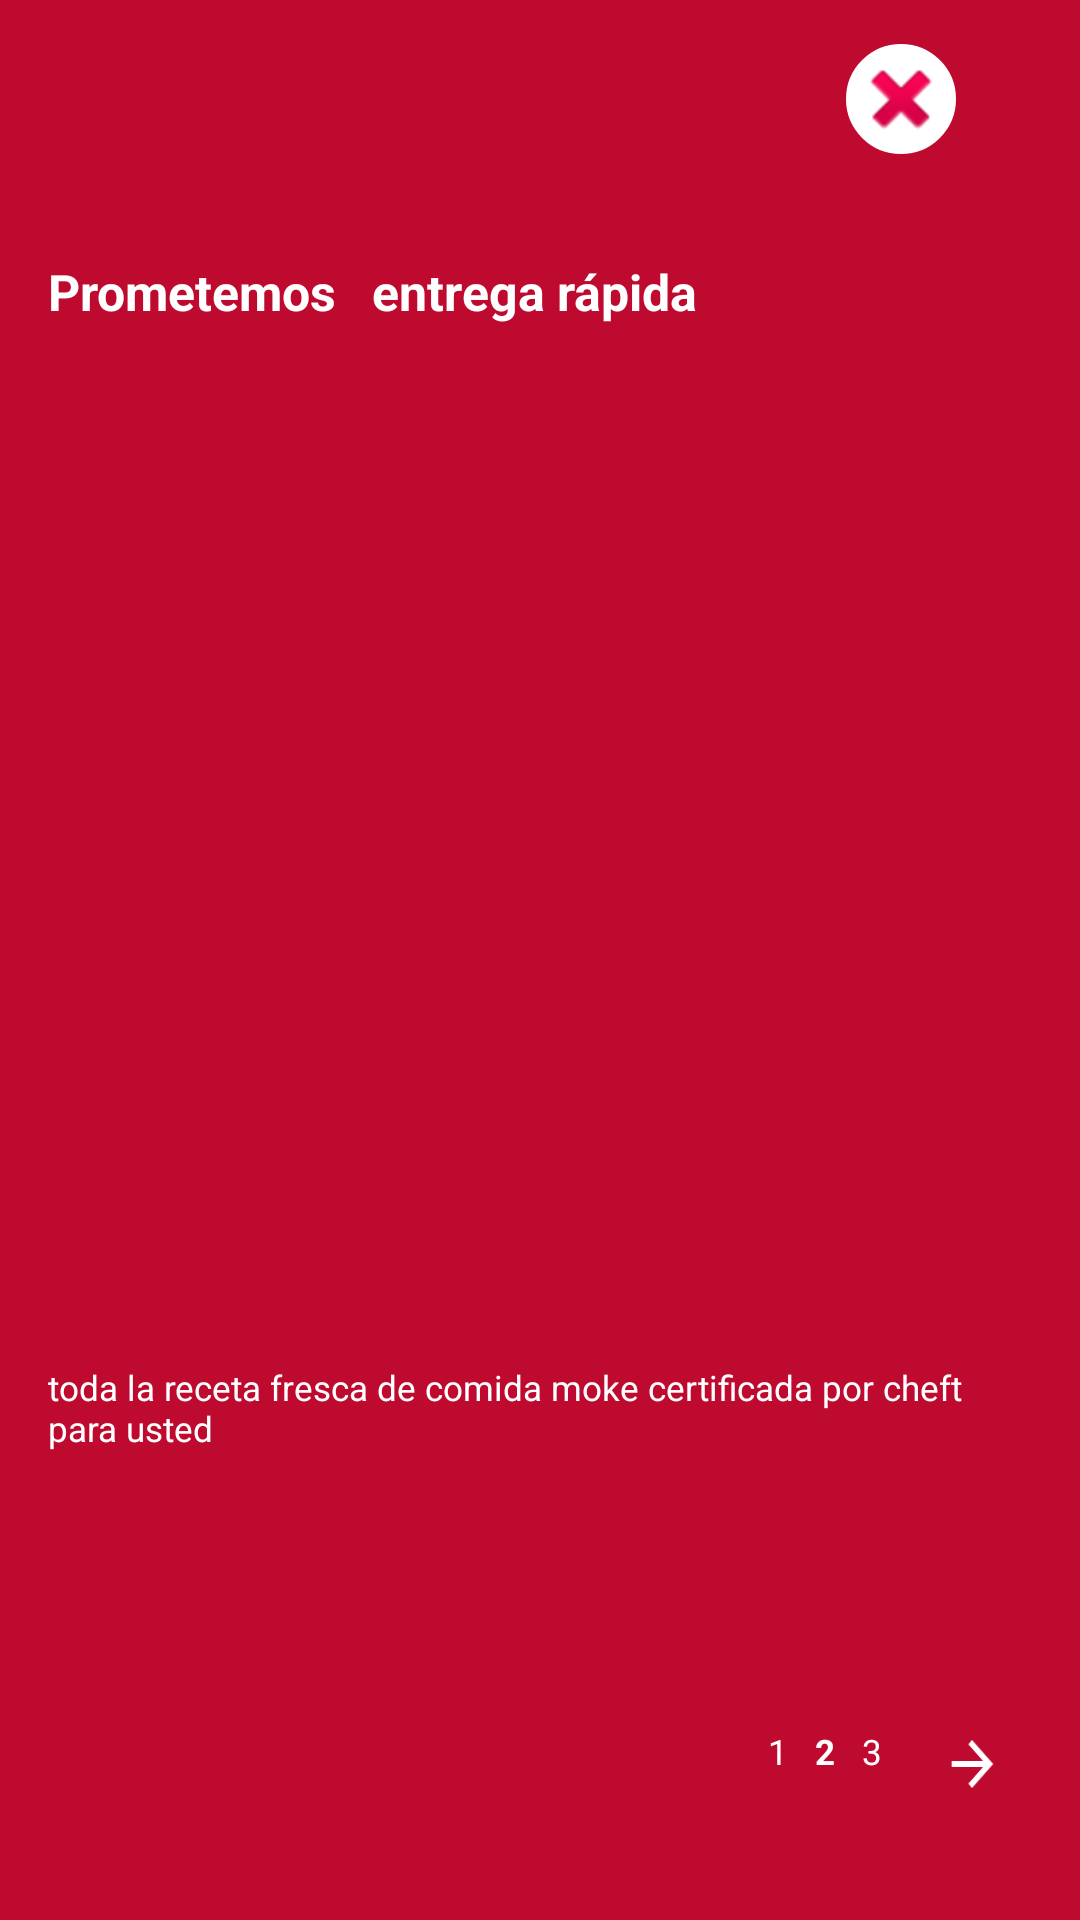

Point at icon controls on the screen. Image size 1080x1920, points as [x,y].
delete: [901,99]
